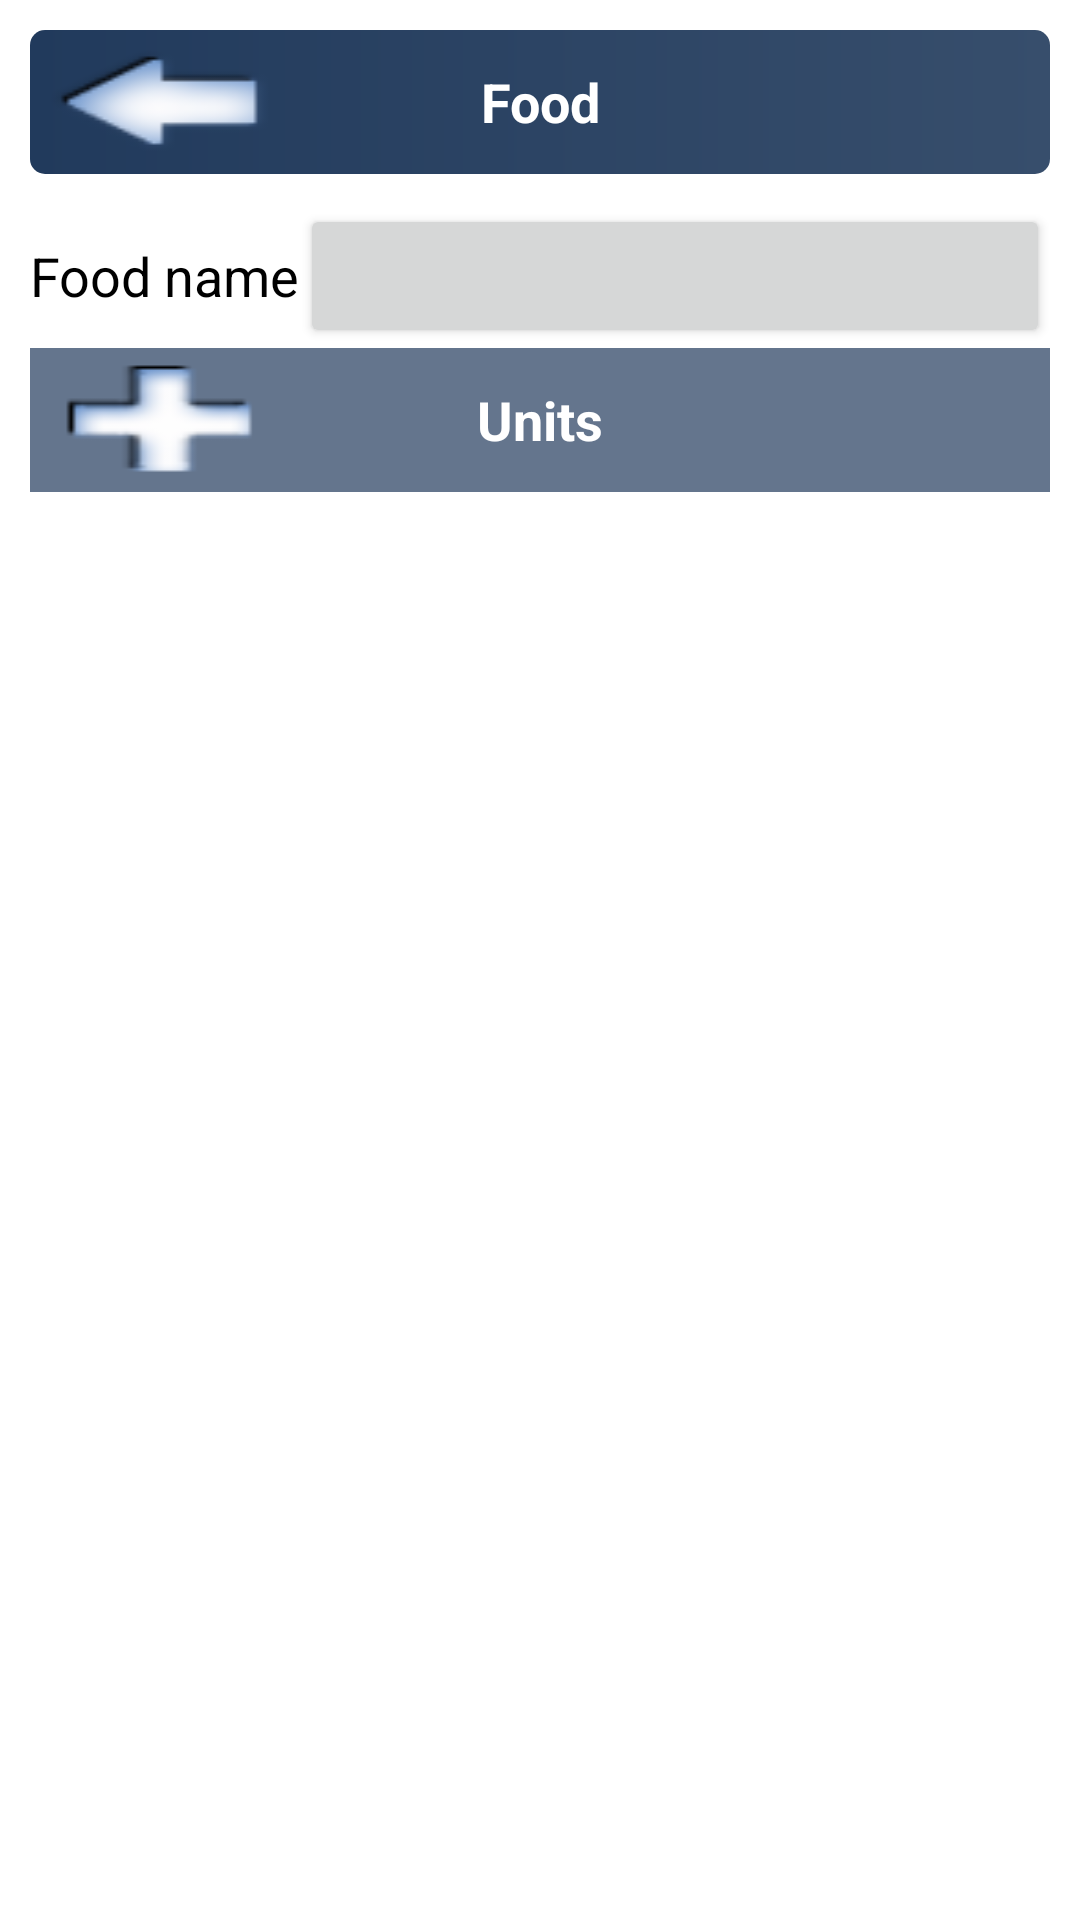

Screen size 1080w x 1920h. Icon name, then its center in pixels as (x=x, y=y):
add: (x=162, y=420)
